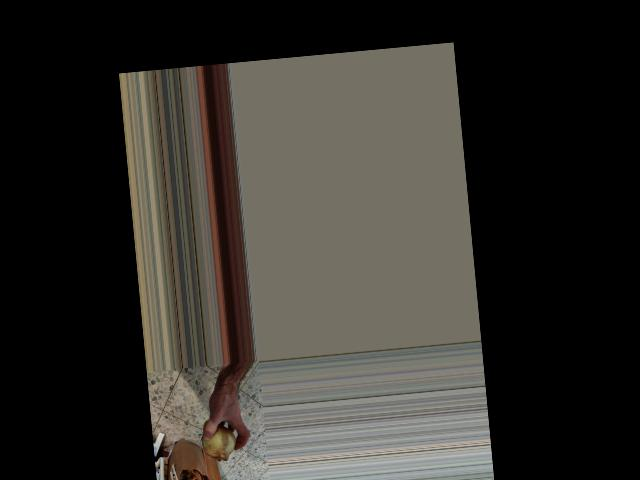onion: (196, 414, 241, 464)
